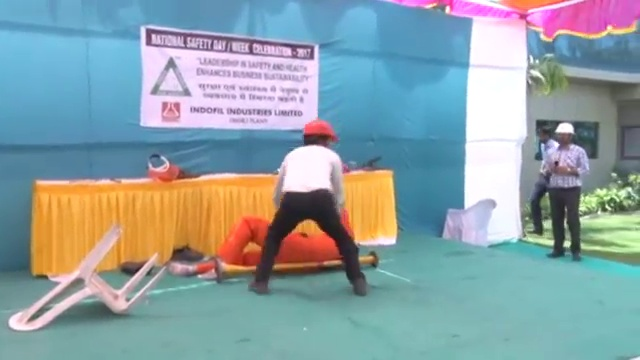helmet: (300, 118, 339, 142), (555, 122, 575, 138)
helmet_off: (539, 122, 554, 143)
helmet_on: (299, 116, 339, 152), (554, 121, 576, 150)
person: (248, 117, 370, 299), (167, 214, 357, 276), (547, 121, 589, 264), (529, 121, 556, 236)
